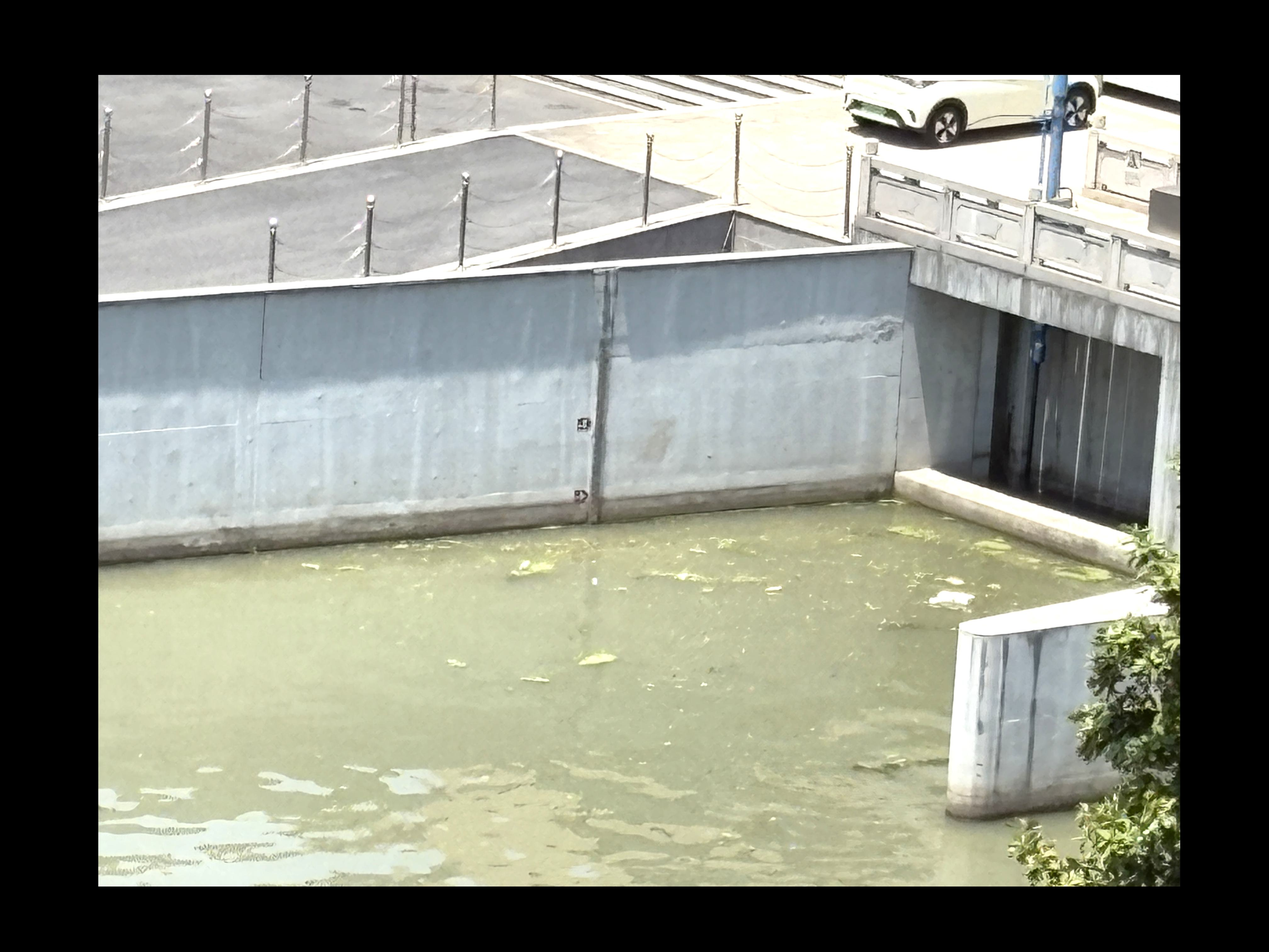Other: (508, 556, 557, 581), (632, 571, 719, 584), (1057, 568, 1110, 581), (888, 524, 932, 537), (578, 653, 618, 666), (977, 541, 1009, 548), (521, 677, 550, 681)
Plastic wastes: (930, 592, 975, 604), (765, 586, 781, 593)
